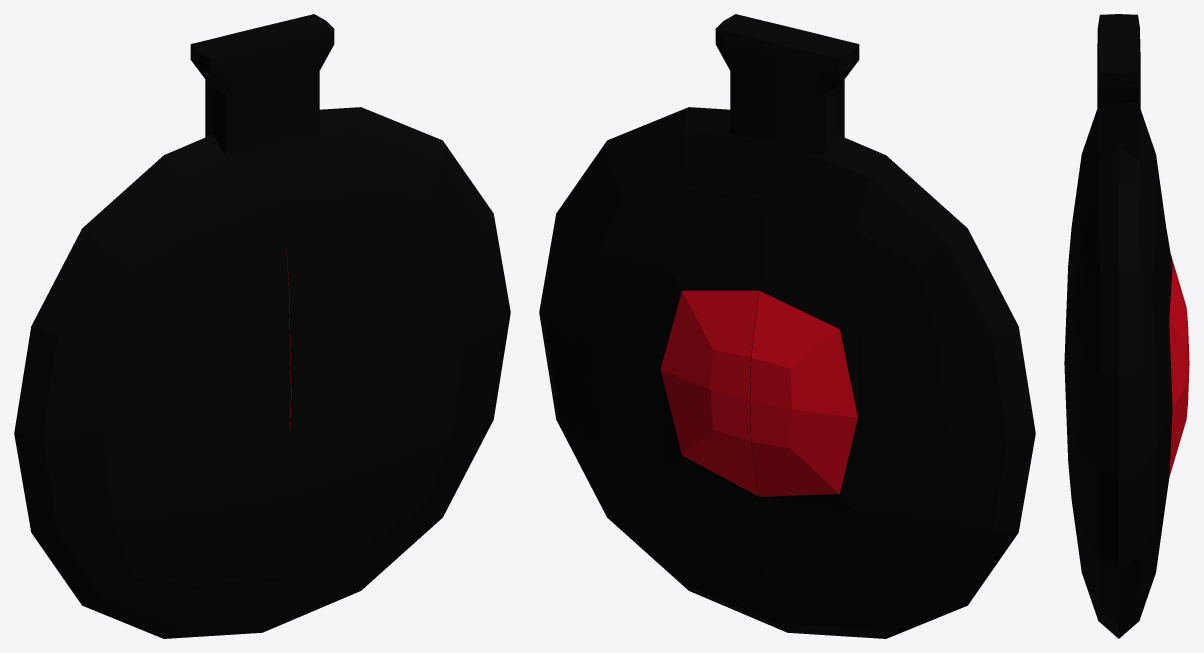
File: Orbital Enemy.fbx
3 views of the same model, side by side, from view 1: azimuth 30°, elevation 25°; view 2: azimuth 150°, elevation 25°; view 3: azimuth 270°, elevation 25° (orthographic). The views are drawn at different scales.
Visible parts, largest first — view 1: Orbital enemy; view 2: Orbital enemy; view 3: Orbital enemy.
Part boxes in pixels (<box>): Orbital enemy: <box>14,14,510,638</box>; Orbital enemy: <box>539,14,1035,638</box>; Orbital enemy: <box>1064,14,1189,638</box>.
Bounding box in the file's own units: 3.36 × 3.85 × 0.7715.
